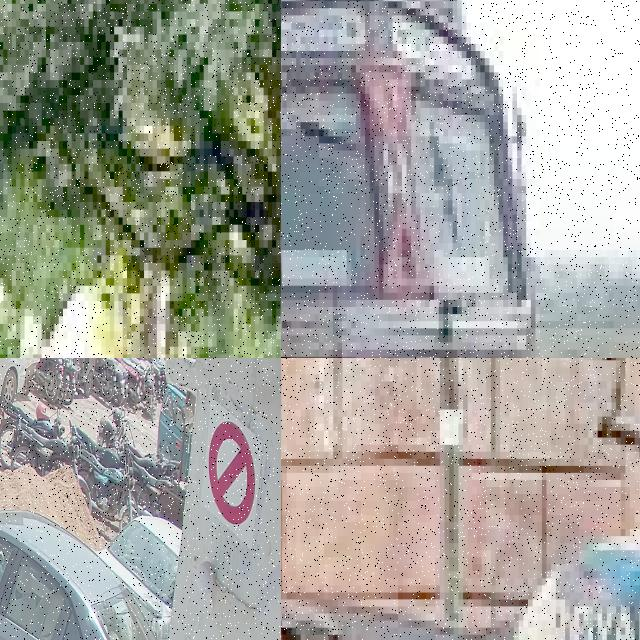bike: (281, 409, 640, 640), (79, 444, 138, 531), (0, 396, 61, 472), (8, 414, 81, 477), (70, 421, 128, 470), (132, 461, 174, 518), (26, 358, 62, 401), (97, 406, 129, 449), (130, 441, 164, 478), (94, 358, 116, 401)
car: (0, 507, 163, 640), (104, 516, 179, 615)
